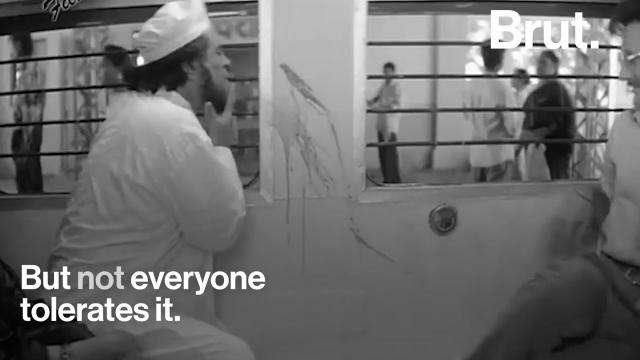spit: (204, 33, 354, 267)
